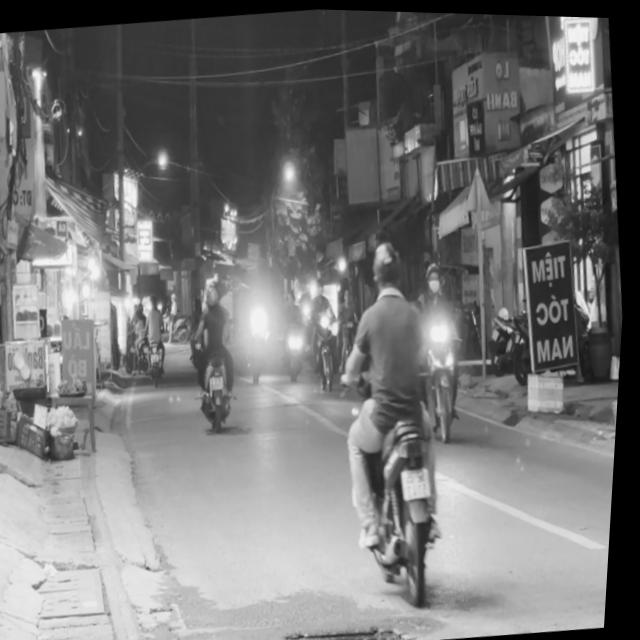helmet: (371, 234, 410, 292)
licenseplate: (321, 227, 474, 600)
nohelmet: (405, 462, 438, 496)
